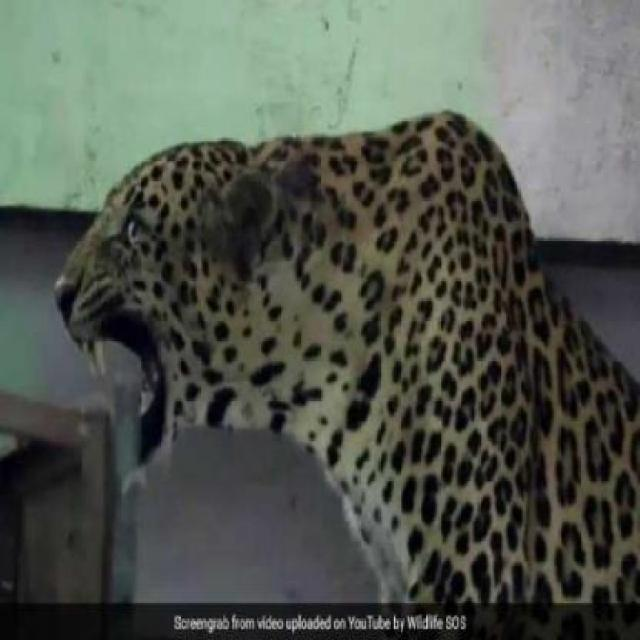Leopard: (59, 86, 633, 560)
